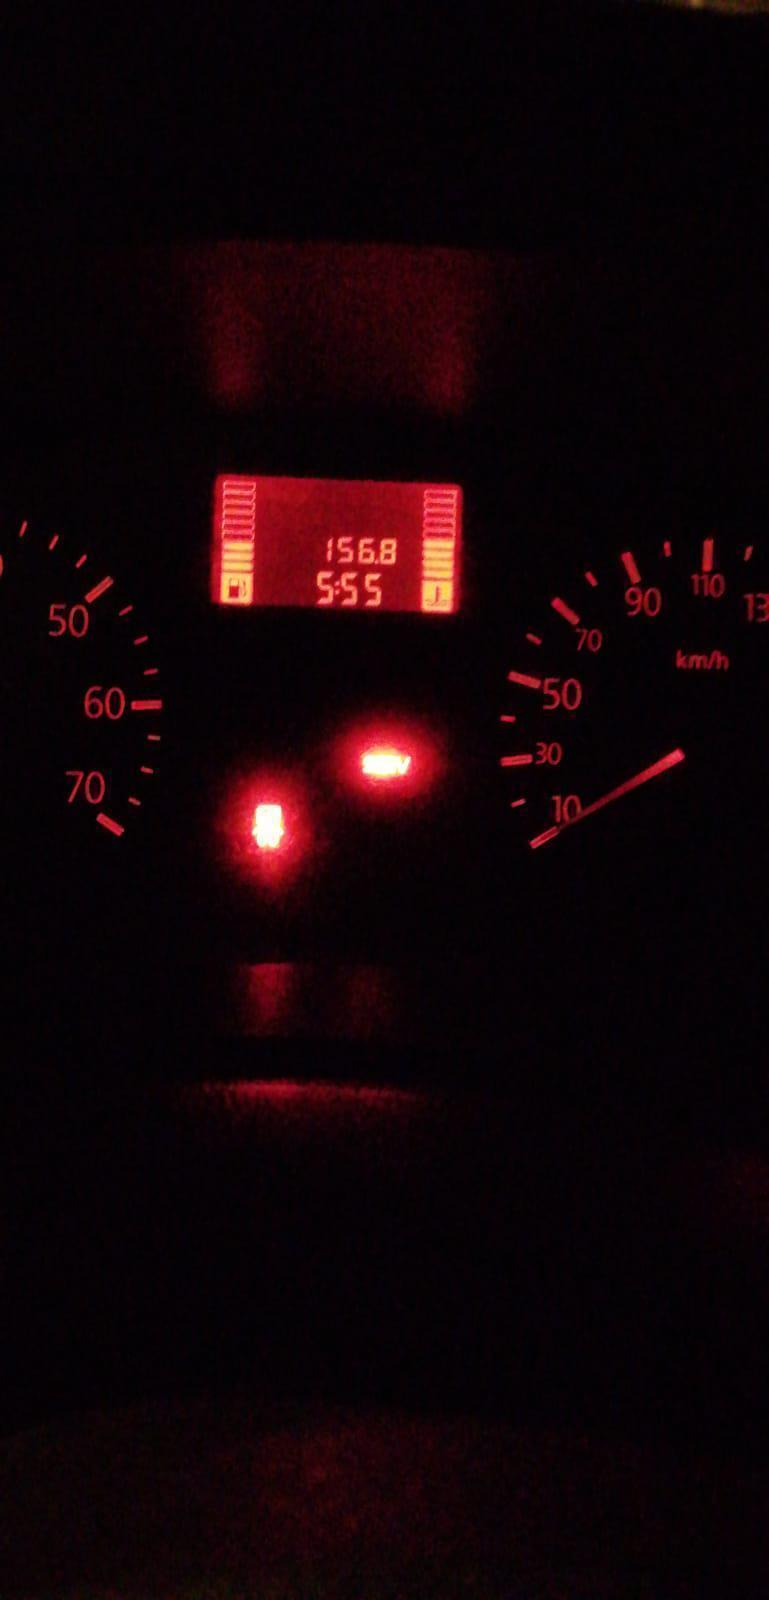,: (374, 558, 379, 565)
1: (326, 537, 334, 563)
5: (363, 572, 382, 607), (315, 569, 334, 605), (340, 570, 358, 606), (335, 536, 354, 563)
6: (356, 537, 375, 564)
8: (379, 537, 397, 565)
X: (334, 580, 340, 595)
odometer: (204, 469, 469, 622)
